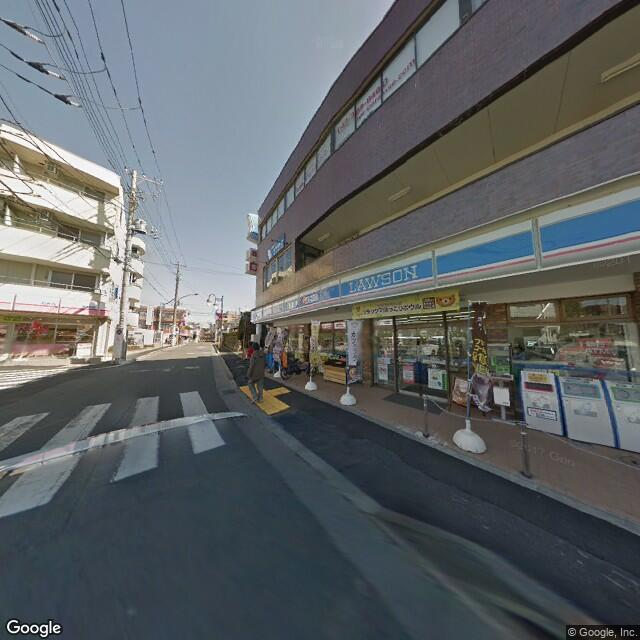lawson: (254, 177, 638, 325)
